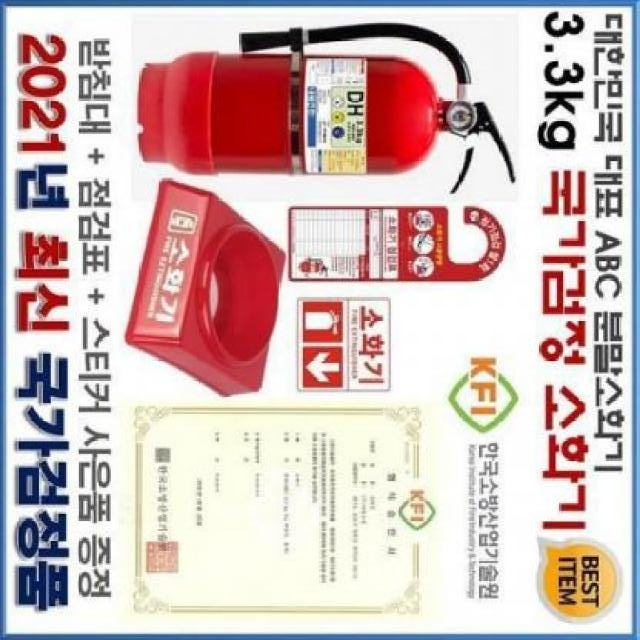fire extinguisher: (135, 21, 517, 195)
